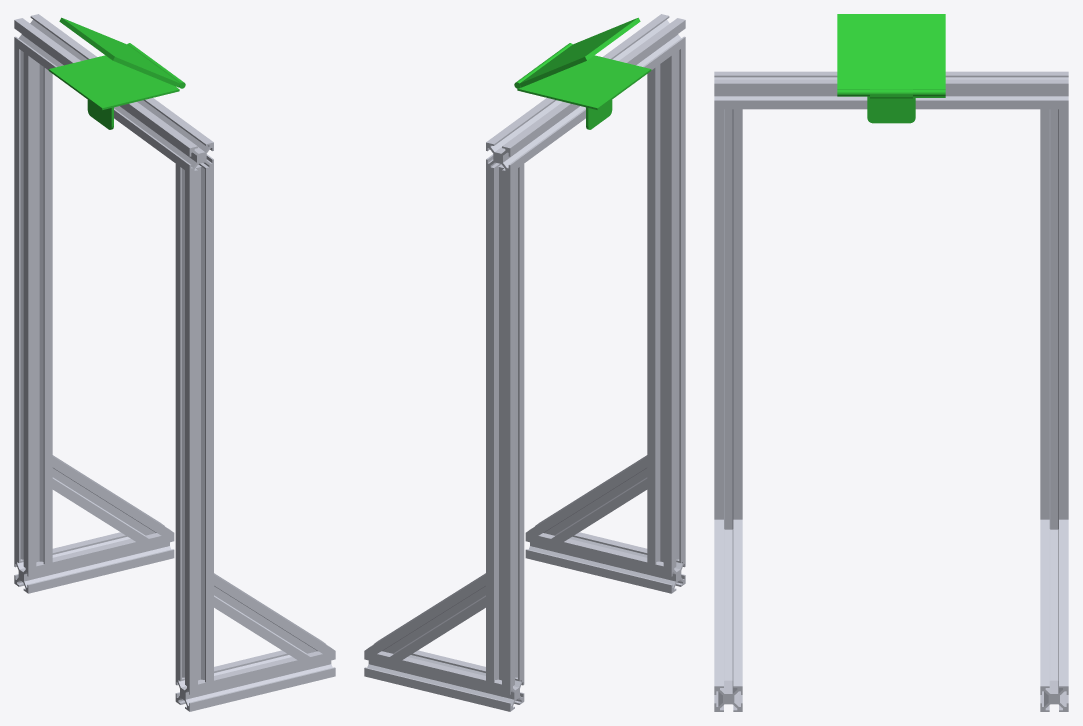
File: kinect_support.dae
The picture shows the model from 3 angles, left to right: view 1: azimuth 30°, elevation 25°; view 2: azimuth 150°, elevation 25°; view 3: azimuth 270°, elevation 25°; orthographic projection.
Visible parts, largest first — view 1: Shape_IndexedFaceSet_014, Shape_IndexedFaceSet_012, Shape_IndexedFaceSet_013, Shape_IndexedFaceSet_011, Shape_IndexedFaceSet_016, Shape_IndexedFaceSet_009, Shape_IndexedFaceSet_015, Shape_IndexedFaceSet_017, Shape_IndexedFaceSet_010; view 2: Shape_IndexedFaceSet_012, Shape_IndexedFaceSet_014, Shape_IndexedFaceSet_013, Shape_IndexedFaceSet_016, Shape_IndexedFaceSet_011, Shape_IndexedFaceSet_009, Shape_IndexedFaceSet_017, Shape_IndexedFaceSet_015, Shape_IndexedFaceSet_010; view 3: Shape_IndexedFaceSet_012, Shape_IndexedFaceSet_014, Shape_IndexedFaceSet_013, Shape_IndexedFaceSet_010, Shape_IndexedFaceSet_015, Shape_IndexedFaceSet_017, Shape_IndexedFaceSet_009, Shape_IndexedFaceSet_011, Shape_IndexedFaceSet_016.
Boxes of the visible parts, x1=… form: Shape_IndexedFaceSet_014: x1=175, y1=164, x2=213, y2=686; Shape_IndexedFaceSet_012: x1=14, y1=45, x2=52, y2=568; Shape_IndexedFaceSet_013: x1=14, y1=14, x2=213, y2=173; Shape_IndexedFaceSet_011: x1=14, y1=526, x2=174, y2=593; Shape_IndexedFaceSet_016: x1=175, y1=650, x2=335, y2=711; Shape_IndexedFaceSet_009: x1=48, y1=55, x2=179, y2=129; Shape_IndexedFaceSet_015: x1=52, y1=455, x2=173, y2=541; Shape_IndexedFaceSet_017: x1=214, y1=573, x2=335, y2=659; Shape_IndexedFaceSet_010: x1=59, y1=17, x2=185, y2=88; Shape_IndexedFaceSet_012: x1=486, y1=164, x2=524, y2=686; Shape_IndexedFaceSet_014: x1=647, y1=45, x2=685, y2=568; Shape_IndexedFaceSet_013: x1=486, y1=14, x2=685, y2=173; Shape_IndexedFaceSet_016: x1=525, y1=526, x2=685, y2=593; Shape_IndexedFaceSet_011: x1=364, y1=650, x2=524, y2=711; Shape_IndexedFaceSet_009: x1=517, y1=55, x2=651, y2=129; Shape_IndexedFaceSet_017: x1=526, y1=455, x2=647, y2=541; Shape_IndexedFaceSet_015: x1=364, y1=573, x2=485, y2=659; Shape_IndexedFaceSet_010: x1=514, y1=17, x2=640, y2=88; Shape_IndexedFaceSet_012: x1=1040, y1=109, x2=1068, y2=529; Shape_IndexedFaceSet_014: x1=714, y1=109, x2=742, y2=529; Shape_IndexedFaceSet_013: x1=714, y1=71, x2=1068, y2=109; Shape_IndexedFaceSet_010: x1=837, y1=14, x2=945, y2=96; Shape_IndexedFaceSet_015: x1=1040, y1=519, x2=1068, y2=686; Shape_IndexedFaceSet_017: x1=714, y1=519, x2=742, y2=686; Shape_IndexedFaceSet_009: x1=837, y1=89, x2=945, y2=123; Shape_IndexedFaceSet_011: x1=1040, y1=680, x2=1068, y2=711; Shape_IndexedFaceSet_016: x1=714, y1=680, x2=742, y2=711.
Size of the model in its own units: 0.1418 by 0.25 by 0.4826.
